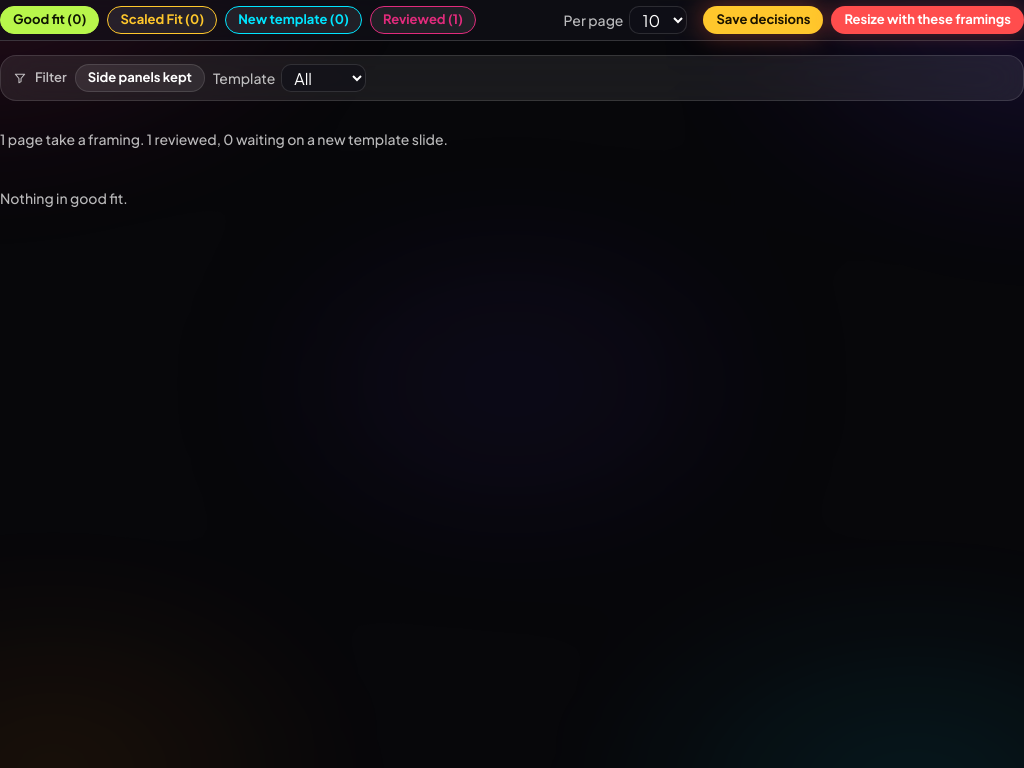
it: framing review overridden pin › keeps the clean note for a pin the run honours
Step 1. Click the button "Reviewed (1)" → point(423, 20), box [370,6,476,34]
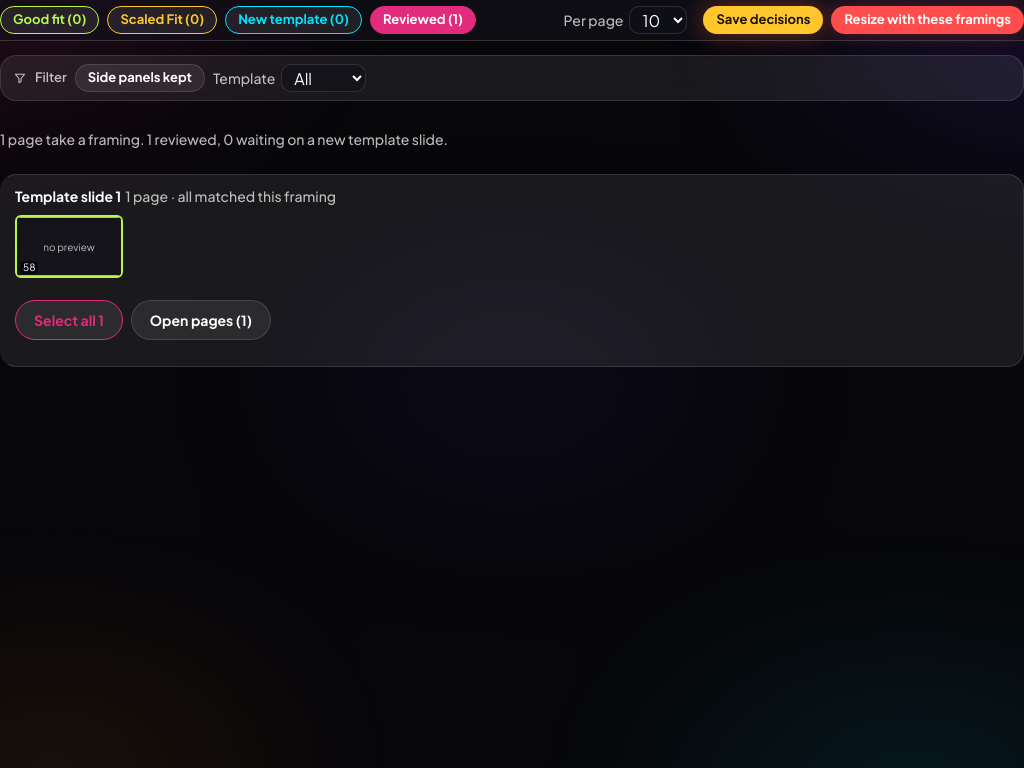
Expected: the button with aria-label "Slide 58" is shown, [15,215,123,278]
Step 2. Click the button "Open pages (1)" → point(201, 320), box [131,300,271,340]
(page scrolled)
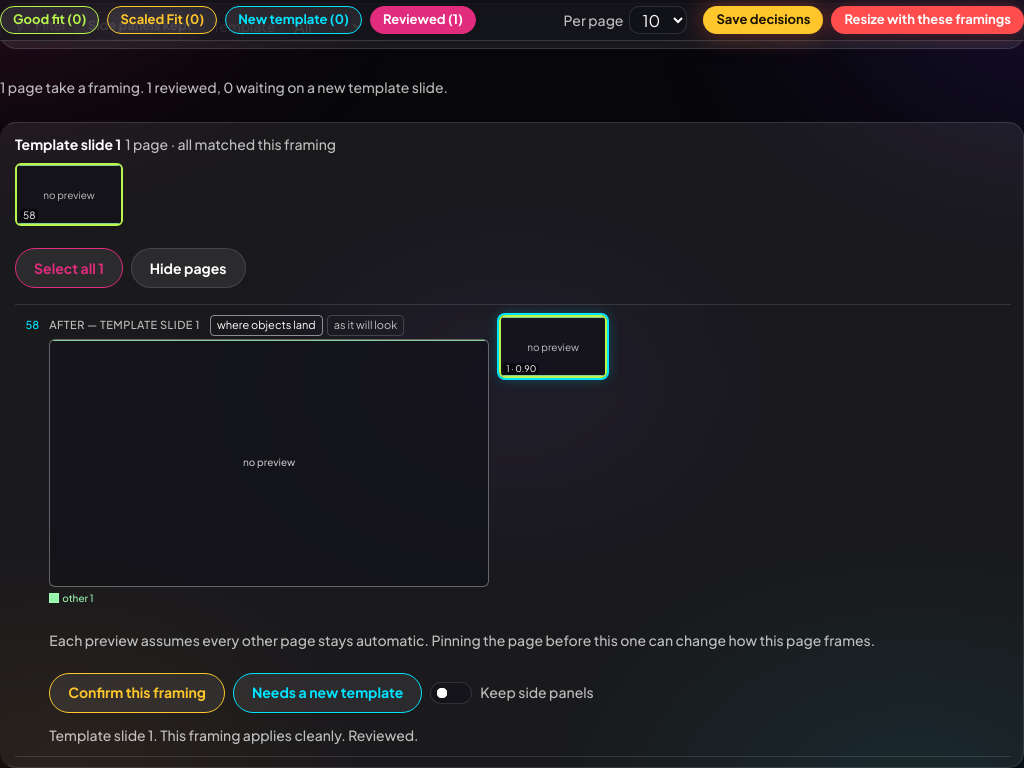
Expected: the text "Template slide 1. This framing applies cleanly. Reviewed." is shown, [49,726,418,744]
